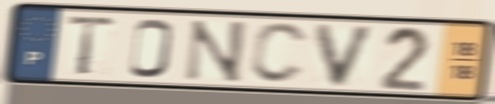0: (128, 17, 177, 80)
2: (376, 24, 435, 93)
C: (247, 20, 312, 87)
N: (181, 18, 250, 85)
T: (62, 13, 120, 77)
V: (312, 22, 382, 90)
